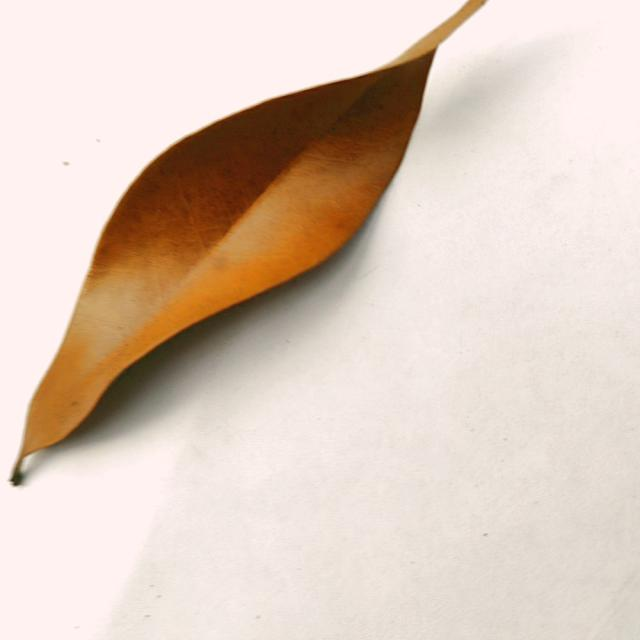Dry_Leaf-Lychee: (19, 0, 490, 461)
